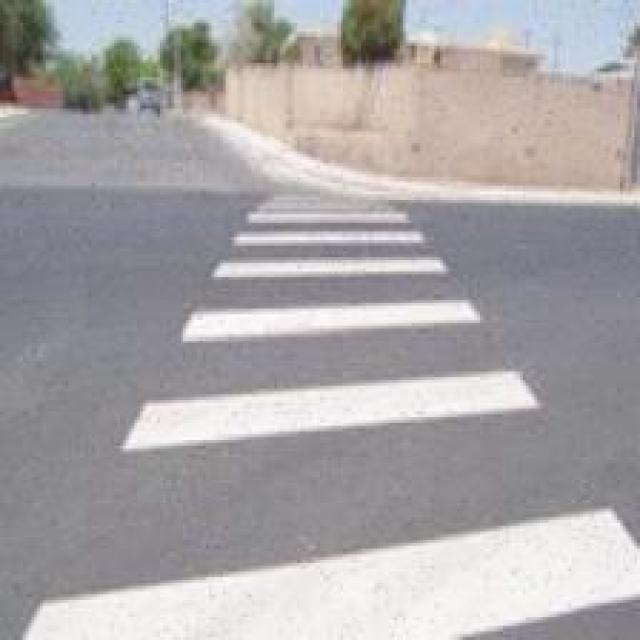walk-crossing: (150, 192, 536, 454)
